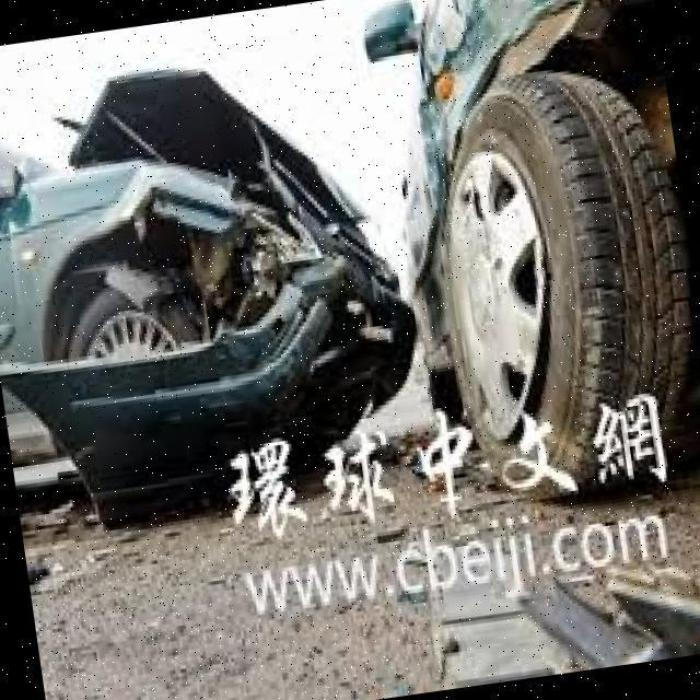Accident: (0, 0, 700, 564)
